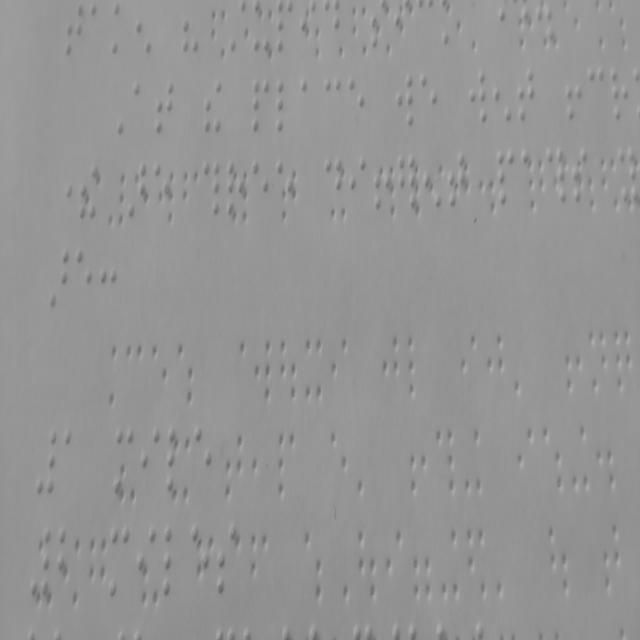braiile: (164, 420, 190, 500), (191, 416, 216, 498), (134, 520, 158, 602), (56, 520, 80, 600), (139, 420, 163, 498), (113, 418, 135, 502), (215, 521, 238, 601), (189, 520, 210, 606), (163, 523, 184, 606), (151, 156, 174, 228), (108, 520, 129, 598), (322, 150, 344, 224), (60, 420, 82, 493), (62, 0, 86, 66), (249, 155, 271, 227), (418, 66, 441, 134), (393, 68, 416, 135), (494, 143, 516, 213), (154, 75, 176, 144), (514, 59, 536, 128), (274, 157, 296, 226), (518, 143, 540, 212), (73, 244, 94, 315), (347, 152, 368, 222), (467, 62, 489, 128), (322, 72, 342, 144), (586, 61, 608, 125), (346, 72, 366, 142), (110, 0, 132, 62), (446, 142, 466, 210), (609, 62, 630, 126), (570, 141, 590, 208), (298, 77, 318, 143), (226, 157, 246, 222), (276, 72, 296, 136), (298, 0, 318, 61), (322, 0, 342, 60), (275, 0, 295, 58), (252, 74, 270, 138), (251, 0, 270, 59), (89, 0, 107, 61), (132, 75, 150, 136)
